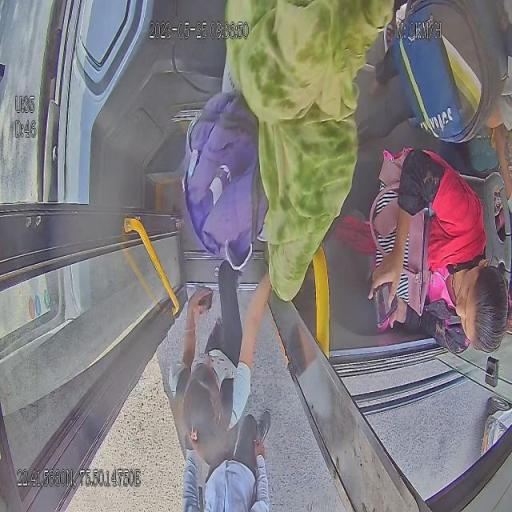persona: (181, 0, 393, 308), (328, 146, 510, 356), (171, 255, 275, 453), (182, 401, 274, 511)
